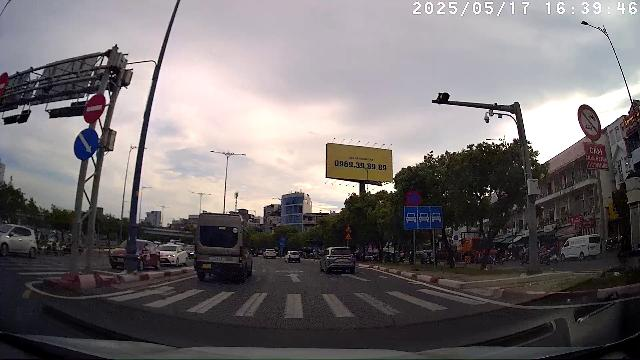102-cam-di-nguoc-chieu: (83, 93, 106, 124)
130-cam-dung-va-do-xe: (406, 190, 422, 206)
302a-huong-phai-di-vong-chuong-ngai-vat-1: (73, 128, 99, 160)
